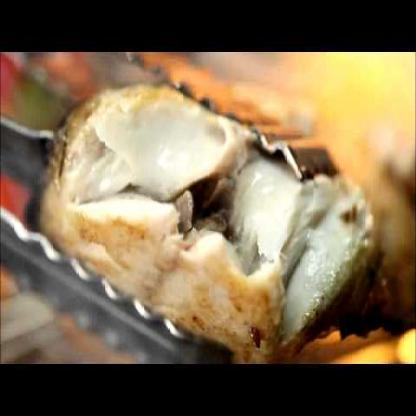Peixe: (48, 48, 416, 356)
